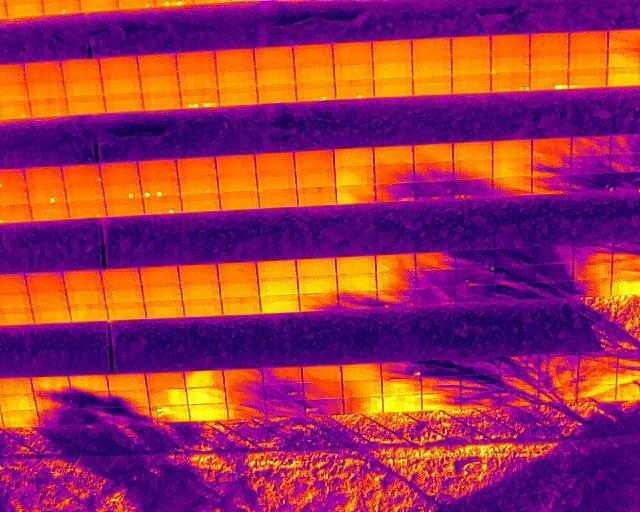Cell: (28, 182, 66, 204), (28, 98, 68, 117), (63, 164, 102, 183), (295, 81, 334, 100), (335, 79, 373, 98), (102, 182, 141, 200), (179, 176, 218, 194), (68, 201, 106, 219), (143, 197, 181, 215), (42, 0, 79, 13)
Cell-Multi: (180, 89, 218, 108), (141, 180, 179, 198), (491, 73, 528, 91), (150, 405, 188, 421)
No-Anomaly: (255, 151, 295, 174), (176, 50, 216, 72), (296, 257, 336, 278), (216, 154, 256, 175), (26, 271, 65, 292), (415, 142, 454, 163), (297, 186, 337, 206), (293, 43, 333, 63), (372, 39, 412, 59), (296, 168, 336, 188), (335, 165, 375, 185), (374, 145, 414, 165), (64, 269, 102, 290), (491, 52, 529, 73), (102, 161, 140, 182), (101, 267, 140, 287), (179, 263, 218, 283), (258, 260, 297, 280), (336, 184, 375, 204), (137, 53, 176, 73), (333, 41, 372, 61), (412, 37, 451, 57), (451, 35, 490, 55), (569, 30, 608, 50), (454, 141, 493, 161), (451, 73, 490, 93), (140, 159, 177, 180), (214, 47, 254, 66), (253, 46, 293, 65), (529, 33, 569, 52), (257, 171, 297, 190), (492, 157, 532, 176), (294, 149, 334, 168), (218, 84, 258, 103), (256, 82, 296, 101), (373, 77, 413, 96), (102, 73, 142, 92), (177, 71, 217, 90), (451, 54, 491, 73), (62, 77, 104, 95), (342, 363, 381, 382), (261, 294, 300, 313), (259, 277, 298, 296), (337, 255, 376, 274), (220, 190, 259, 209), (568, 49, 607, 68), (177, 157, 216, 176), (334, 148, 373, 167), (493, 139, 532, 158), (294, 63, 333, 82), (24, 61, 63, 80), (71, 374, 108, 394), (108, 301, 146, 320), (184, 298, 222, 317), (222, 297, 260, 316), (218, 262, 256, 281), (258, 188, 296, 207), (530, 52, 568, 71), (6, 0, 44, 19), (148, 387, 186, 406), (147, 371, 185, 390), (218, 174, 258, 192), (139, 73, 179, 91), (255, 65, 295, 83), (372, 59, 412, 77), (60, 59, 100, 77), (33, 376, 70, 395), (302, 365, 341, 383), (142, 283, 181, 301), (141, 266, 180, 284), (490, 34, 529, 52), (104, 93, 143, 111), (26, 79, 65, 97), (412, 57, 451, 75), (216, 66, 255, 84), (33, 306, 71, 324), (70, 304, 108, 322), (145, 301, 183, 319), (182, 282, 220, 300), (220, 280, 258, 298), (31, 203, 69, 221), (181, 193, 219, 211), (189, 403, 227, 421), (187, 386, 225, 404), (65, 95, 103, 113), (141, 91, 179, 109), (412, 74, 450, 92), (298, 277, 338, 294), (333, 62, 373, 79), (337, 275, 376, 292), (105, 199, 144, 216), (185, 371, 224, 388), (64, 183, 103, 200), (99, 57, 138, 74), (382, 378, 421, 395), (104, 285, 142, 302), (383, 395, 421, 412), (108, 373, 146, 390), (342, 382, 382, 398), (2, 410, 39, 427), (67, 289, 105, 305), (30, 291, 67, 307), (0, 395, 36, 411), (26, 168, 62, 183)
Shadowing: (537, 383, 578, 406), (533, 243, 573, 265), (454, 178, 493, 200), (415, 270, 455, 291), (533, 262, 573, 283), (572, 262, 612, 283), (572, 242, 612, 263), (376, 182, 416, 203), (576, 383, 616, 404), (376, 251, 414, 273), (416, 182, 454, 204), (532, 283, 572, 303), (571, 176, 611, 196), (300, 292, 338, 313), (456, 268, 494, 289), (381, 360, 420, 380), (572, 280, 611, 300), (532, 175, 571, 195), (532, 137, 571, 157), (536, 367, 577, 386), (415, 251, 455, 270), (39, 409, 79, 428), (265, 402, 305, 421), (375, 164, 415, 183), (571, 137, 611, 156), (338, 292, 377, 311), (454, 288, 493, 307), (71, 391, 110, 410), (461, 374, 500, 393), (492, 176, 531, 195), (532, 157, 571, 176), (572, 156, 611, 175), (495, 284, 532, 304), (576, 367, 617, 385), (225, 367, 263, 386), (263, 366, 301, 385), (377, 291, 415, 310), (109, 390, 147, 409), (415, 163, 453, 182), (578, 349, 618, 367), (264, 384, 304, 402), (495, 248, 532, 267), (415, 290, 454, 308), (376, 273, 415, 291), (226, 385, 265, 403), (456, 250, 494, 268), (228, 403, 266, 421), (454, 161, 492, 179), (461, 358, 501, 375), (303, 382, 343, 399), (495, 266, 532, 284), (421, 360, 460, 377), (462, 393, 501, 410), (304, 399, 344, 415), (422, 394, 462, 410), (422, 379, 462, 395), (344, 397, 383, 413), (36, 394, 72, 411), (110, 409, 151, 423), (80, 410, 110, 424)
Unclassified: (569, 68, 607, 88), (529, 70, 567, 89)
